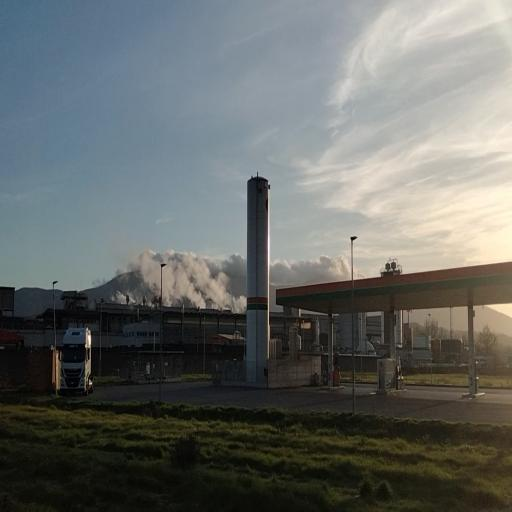leakage: (115, 250, 250, 317)
